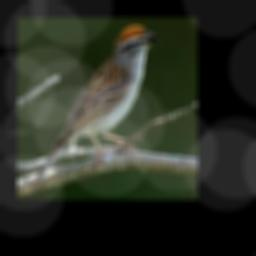Sparrow: (27, 24, 158, 195)
